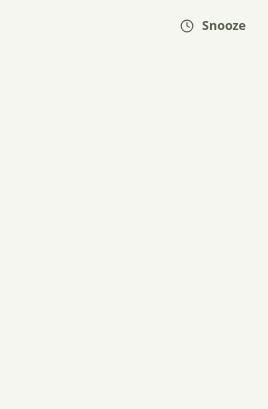
Test: a custom moment in the past is refused inline, without a request
Press Enter in the button with aria-label "snooze this thread", box [170,12,256,40]
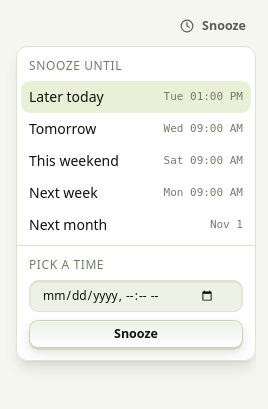
In the field named "specific date and time": {"x": 136, "y": 296} [29,280,243,312], type "2020-01-01T09:00"
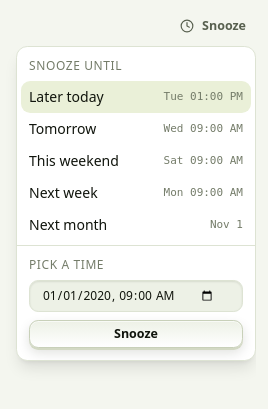
Click the button "Snooze" below "Pick a time": {"x": 136, "y": 334} [29,320,243,348]
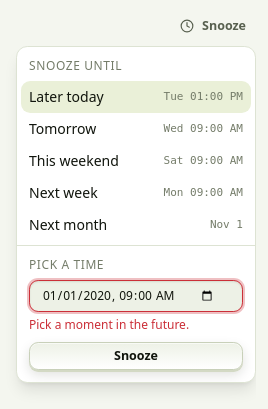
Check: the message shows "future", box [29,316,189,333]
